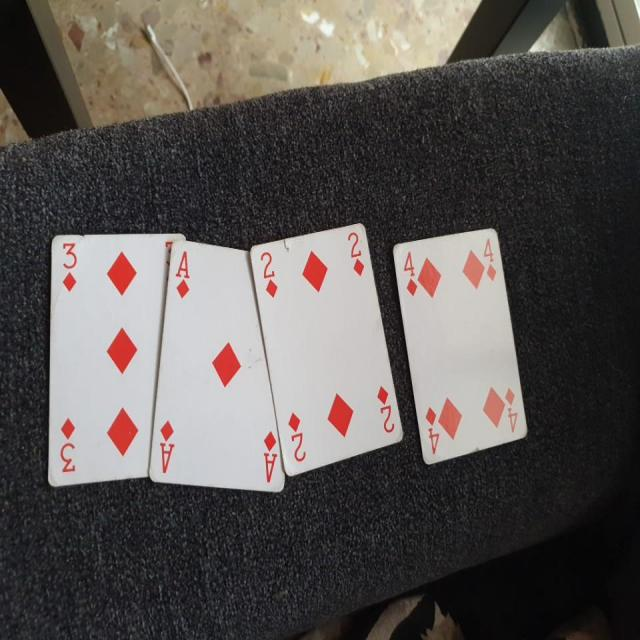2 Diamonds: (248, 218, 410, 477)
3 Diamonds: (38, 222, 186, 492)
4 Diamonds: (393, 224, 530, 468)
A Diamonds: (146, 237, 291, 498)
